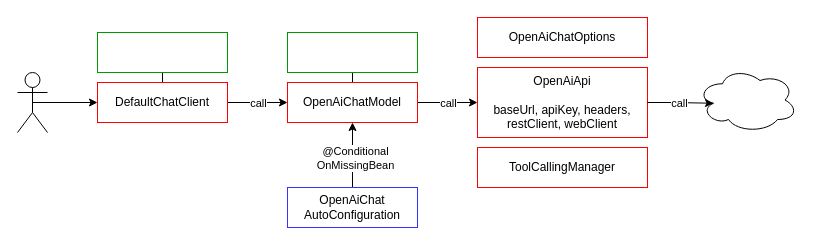
This 815x245 diagram has some shape labels left out. The shapes that lost their labels are listed below. From the top down, each one's box as (x1, y1, x2, y2) in pixels, then its label:
(96, 32, 228, 72): ChatClient
(286, 32, 418, 72): ChatModel
(696, 66, 798, 132): LLM
